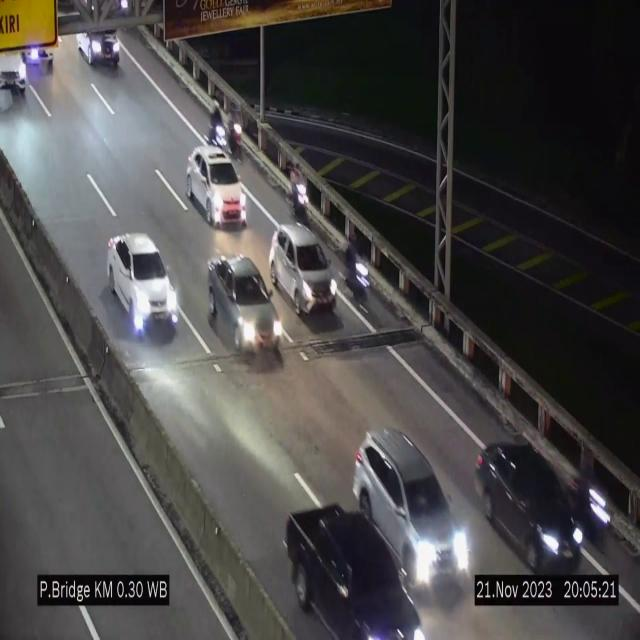Car: (353, 430, 470, 638), (284, 500, 425, 640), (476, 437, 583, 574), (107, 233, 179, 335), (208, 258, 282, 356), (270, 222, 337, 326), (186, 146, 246, 226)
Motorcycle: (572, 455, 612, 552), (345, 231, 369, 304), (289, 159, 313, 225), (228, 108, 244, 164), (209, 104, 227, 152)
